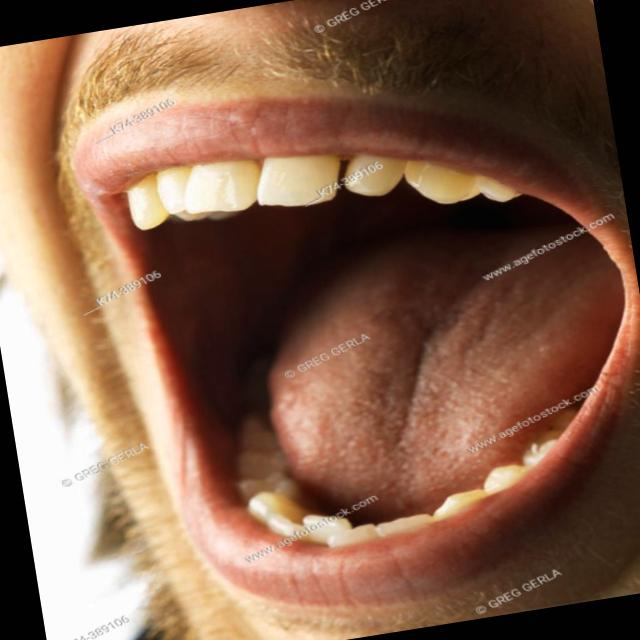No Cancer: (194, 170, 627, 530)
